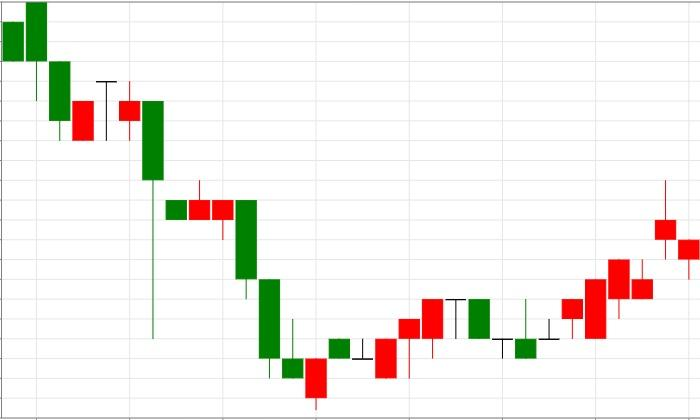inverse_hammer_rise: (142, 101, 303, 378)
